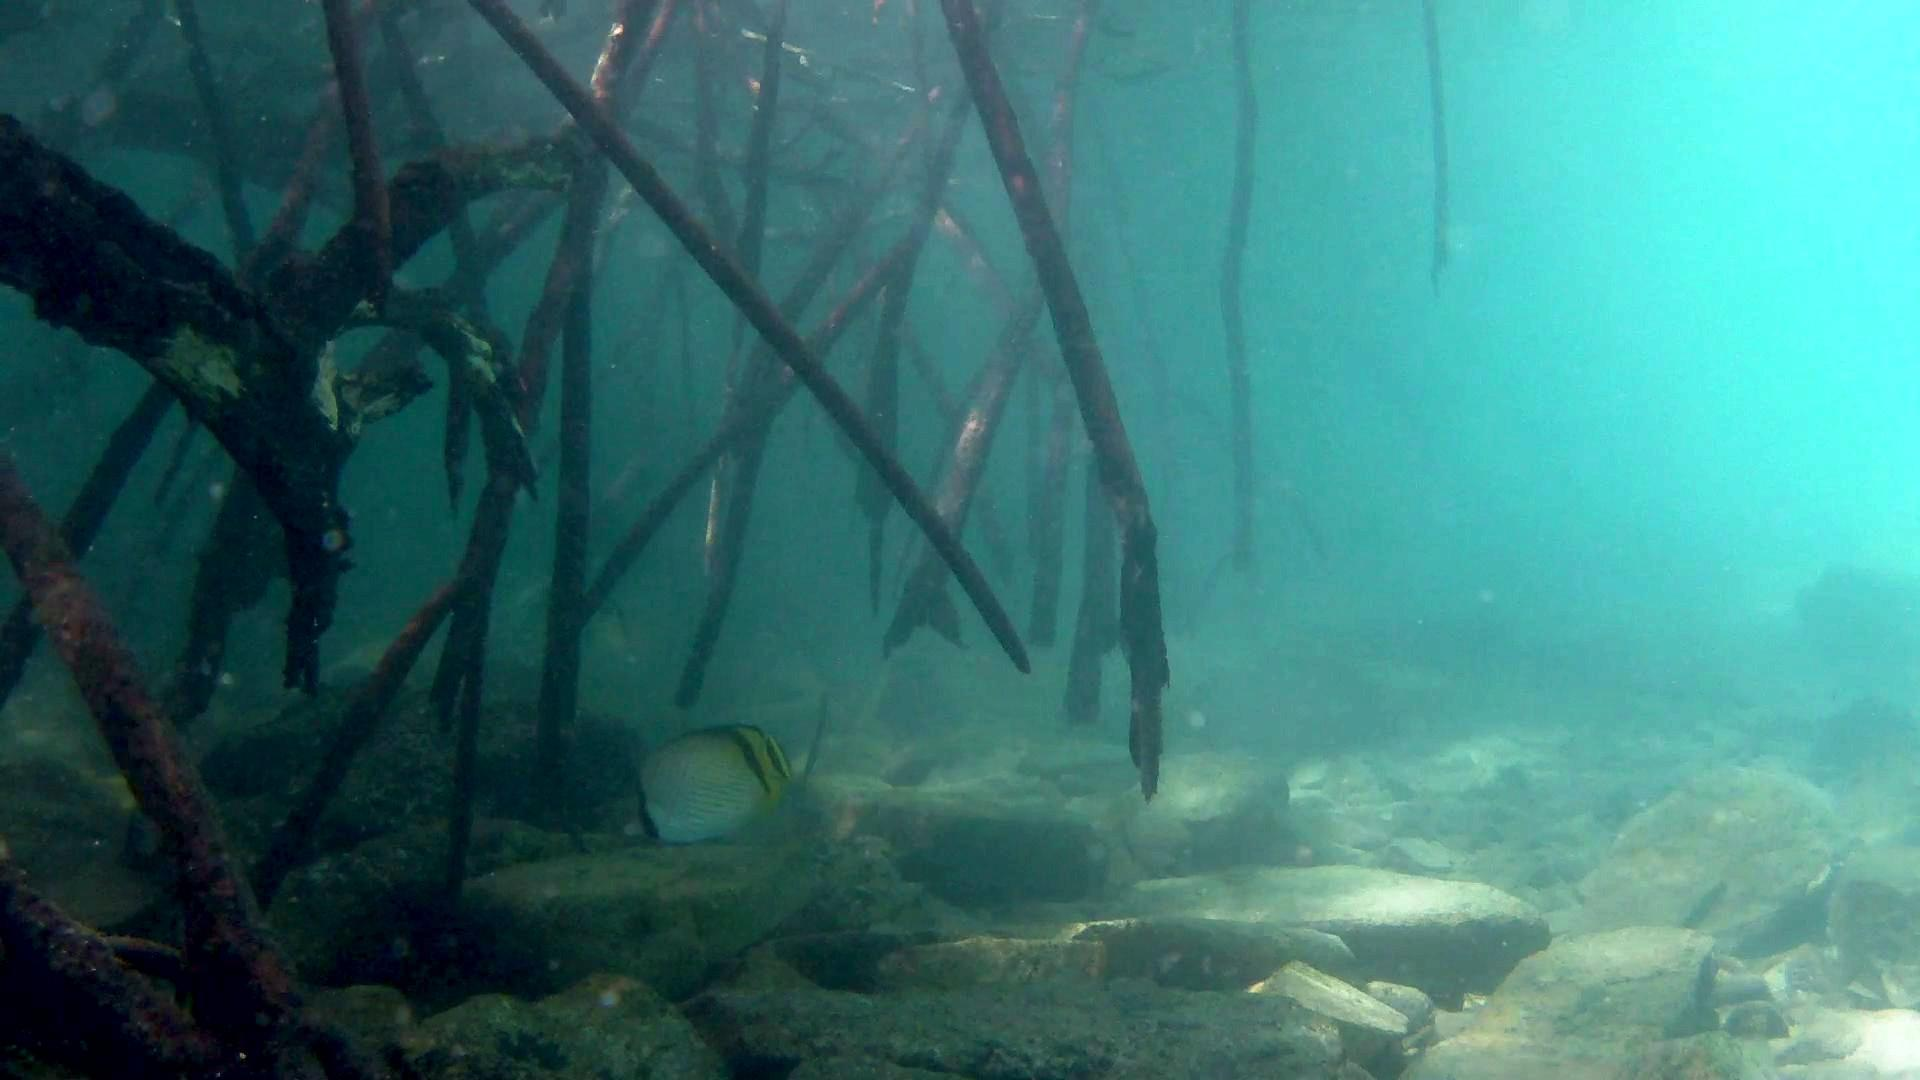chaetodon vagabundus: (622, 720, 796, 847)
